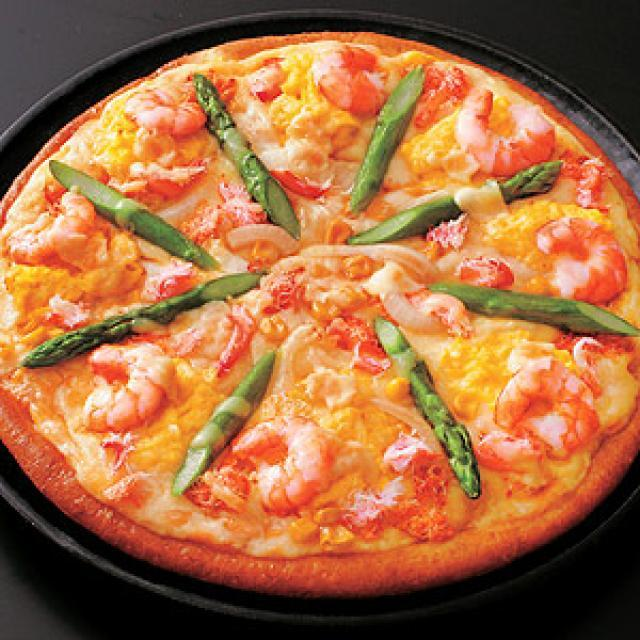Pizza: (1, 14, 640, 614)
